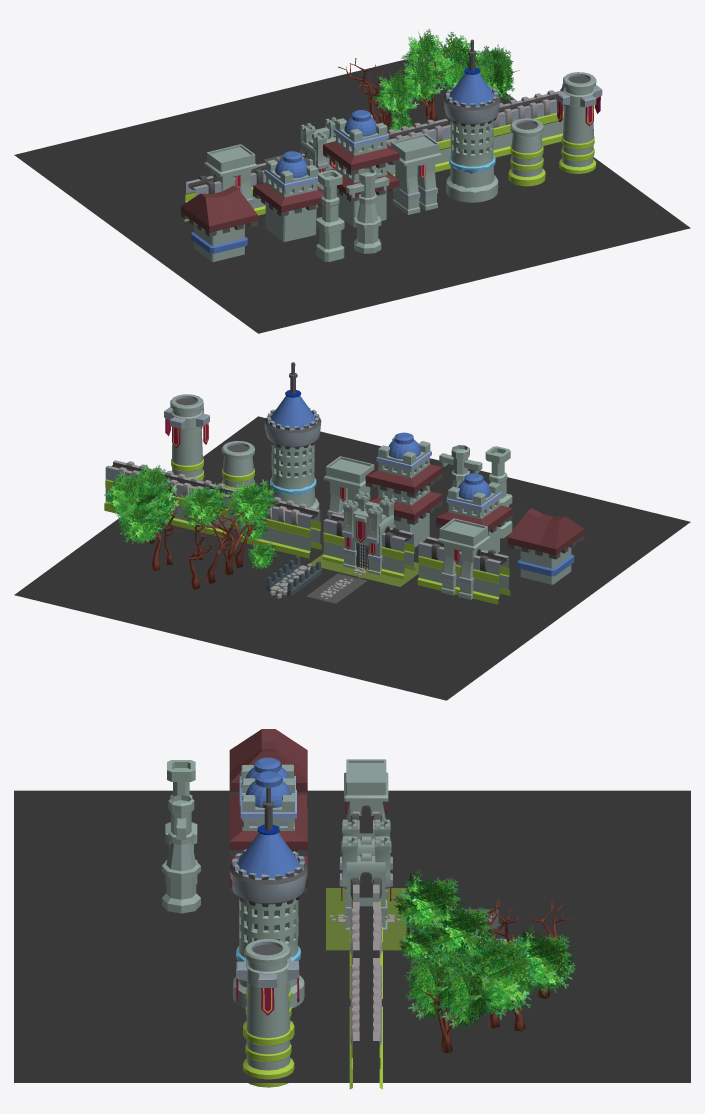
The model's file is city2.glb.
3 views of the same model, one above another, from view 1: azimuth 30°, elevation 25°; view 2: azimuth 150°, elevation 25°; view 3: azimuth 270°, elevation 25° (orthographic). The views are drawn at different scales.
Visible parts, largest first — view 1: Plane, Palace.tower, Palace.tower2, Palace.tower1, Small house, Tower.tall, Wall.tower, Wall_ArcheryTower, Wall.long, Vert.005, Tower.short, Cylinder (+6 smaller); view 2: Plane, Wall_ArcheryTower, Gate_wall, Palace.tower2, Palace.tower, Small house, Palace.tower1, Wall.short, Wall.long, Tower.tall, Vert.005, Vert.003 (+11 smaller); view 3: Plane, Palace.tower, Tower.tall, Vert.005, Vert.007, Palace.tower2, Gate_wall, Vert.003, Cylinder, Wall.long, Wall_ArcheryTower, Small house (+5 smaller).
Part boxes in pixels (bbox=[...]): Plane: bbox=[14, 51, 690, 333]; Palace.tower: bbox=[444, 39, 500, 202]; Palace.tower2: bbox=[323, 110, 399, 227]; Palace.tower1: bbox=[253, 151, 323, 241]; Small house: bbox=[181, 185, 257, 261]; Tower.tall: bbox=[556, 72, 602, 173]; Wall.tower: bbox=[391, 133, 441, 214]; Wall_ArcheryTower: bbox=[184, 144, 266, 221]; Wall.long: bbox=[493, 87, 564, 157]; Vert.005: bbox=[401, 29, 482, 115]; Tower.short: bbox=[508, 118, 545, 186]; Cylinder: bbox=[346, 168, 389, 253]; Plane: bbox=[14, 416, 690, 700]; Wall_ArcheryTower: bbox=[417, 518, 510, 604]; Gate_wall: bbox=[322, 491, 415, 579]; Palace.tower2: bbox=[365, 432, 442, 547]; Palace.tower: bbox=[264, 362, 321, 509]; Small house: bbox=[507, 508, 584, 584]; Palace.tower1: bbox=[436, 473, 512, 553]; Wall.short: bbox=[239, 495, 321, 558]; Wall.long: bbox=[104, 460, 238, 537]; Tower.tall: bbox=[164, 394, 209, 481]; Vert.005: bbox=[116, 480, 175, 571]; Vert.003: bbox=[227, 479, 279, 567]; Plane: bbox=[14, 790, 690, 1082]; Palace.tower: bbox=[229, 786, 307, 1008]; Tower.tall: bbox=[236, 939, 299, 1087]; Vert.005: bbox=[451, 925, 577, 1031]; Vert.007: bbox=[404, 947, 500, 1053]; Palace.tower2: bbox=[229, 771, 307, 893]; Gate_wall: bbox=[329, 819, 403, 941]; Vert.003: bbox=[393, 868, 466, 963]; Cylinder: bbox=[161, 795, 200, 913]; Wall.long: bbox=[349, 958, 382, 1089]; Wall_ArcheryTower: bbox=[344, 759, 388, 839]; Small house: bbox=[229, 729, 307, 797].
Bounding box in the file's own units: 37.15 × 12.33 × 34.67.
Materials: 2 (2 with a texture image).
